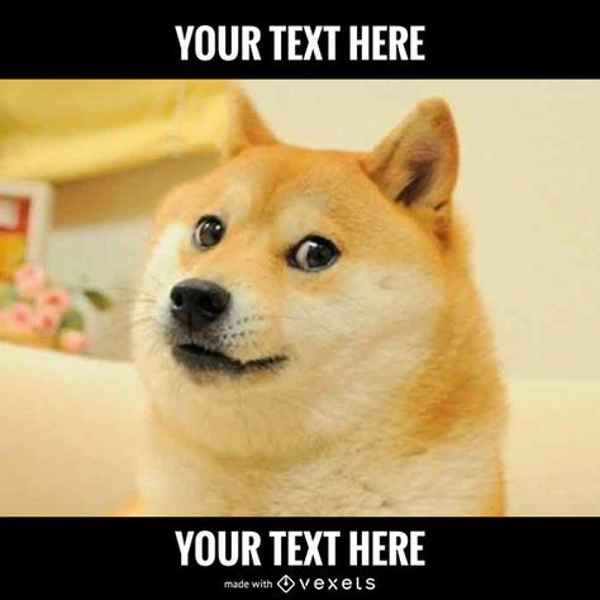doge: (129, 124, 464, 460)
